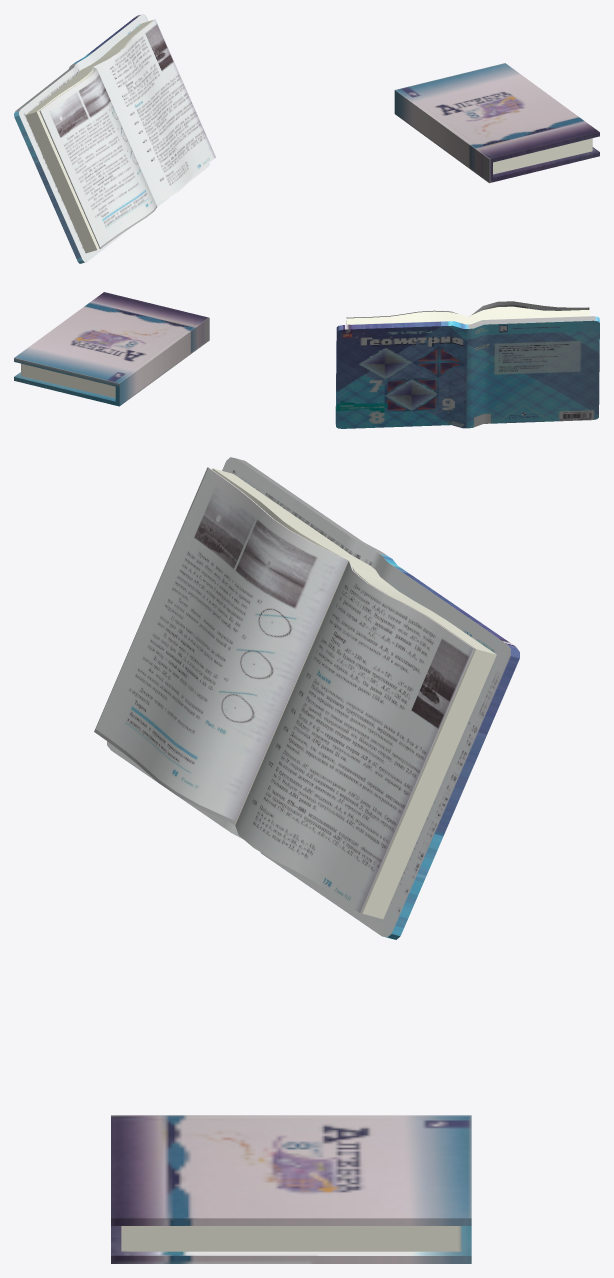
The model's file is Book.fbx.
The picture shows the model from 3 angles, top to bottom: view 1: azimuth 30°, elevation 25°; view 2: azimuth 150°, elevation 25°; view 3: azimuth 270°, elevation 25°; orthographic projection. The views are drawn at different scales.
Parts seen in each view (by area): view 1: OpenBook, Book; view 2: OpenBook, Book; view 3: OpenBook, Book.
Part boxes in pixels (bbox=[...]): OpenBook: bbox=[14, 14, 215, 263]; Book: bbox=[394, 63, 599, 183]; OpenBook: bbox=[335, 300, 599, 428]; Book: bbox=[14, 292, 209, 406]; OpenBook: bbox=[94, 457, 519, 939]; Book: bbox=[111, 1115, 471, 1263].
Size of the model in its own units: 61.23 by 17.03 by 21.44.
1 material, 1 textured.
